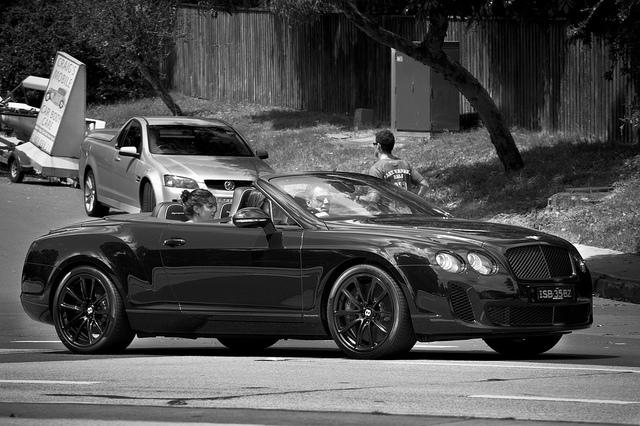car: (20, 170, 598, 359)
